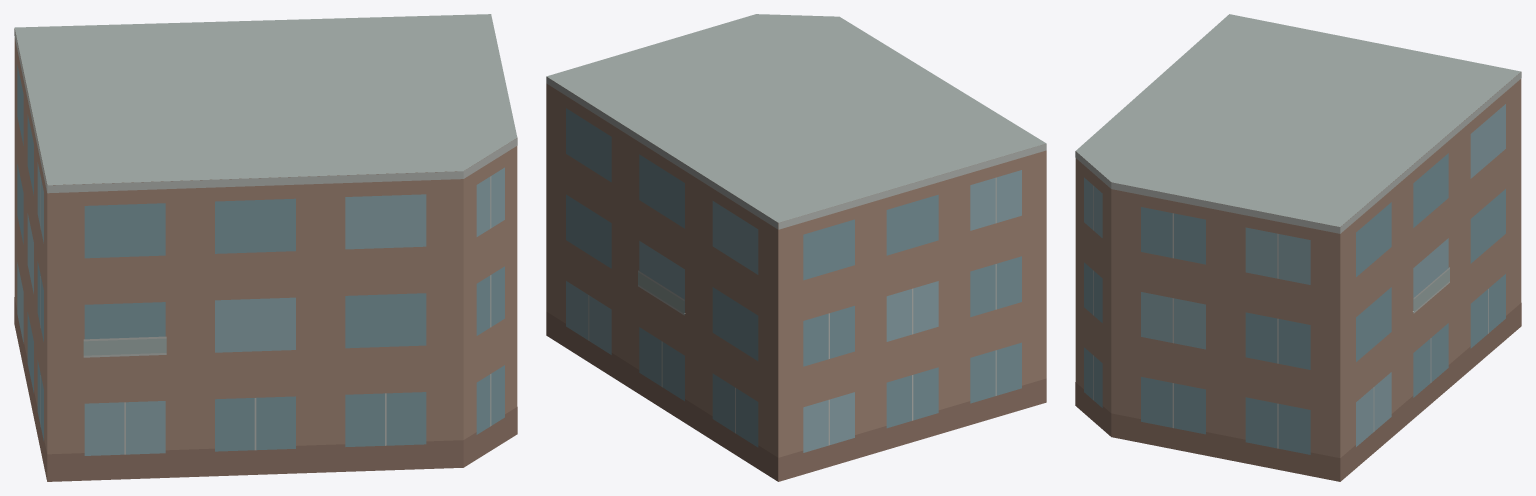
Rendered from survey-upis-32999973.glb.
The picture shows the model from 3 angles, left to right: view 1: azimuth 30°, elevation 25°; view 2: azimuth 150°, elevation 25°; view 3: azimuth 270°, elevation 25°; orthographic projection. The views are drawn at different scales.
Visible parts, largest first — view 1: survey-upis-32999973.tmp; view 2: survey-upis-32999973.tmp; view 3: survey-upis-32999973.tmp.
Part boxes in pixels (x1,y1,x2,y2): survey-upis-32999973.tmp: (14, 14, 517, 481); survey-upis-32999973.tmp: (546, 14, 1046, 481); survey-upis-32999973.tmp: (1075, 14, 1521, 481).
Bounding box in the file's own units: 16.42 × 9.15 × 14.52.
